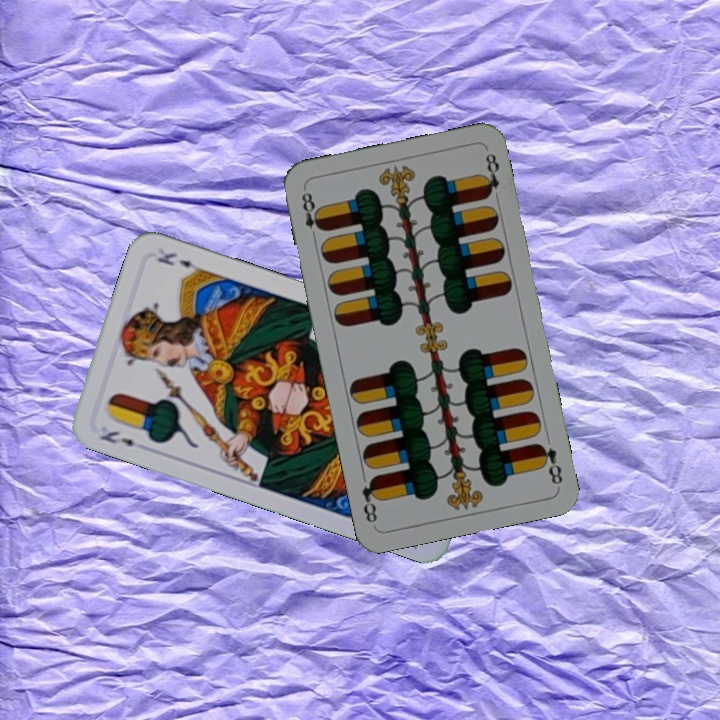E8: (297, 185, 326, 244), (533, 439, 565, 487)
EK: (96, 426, 137, 449)
